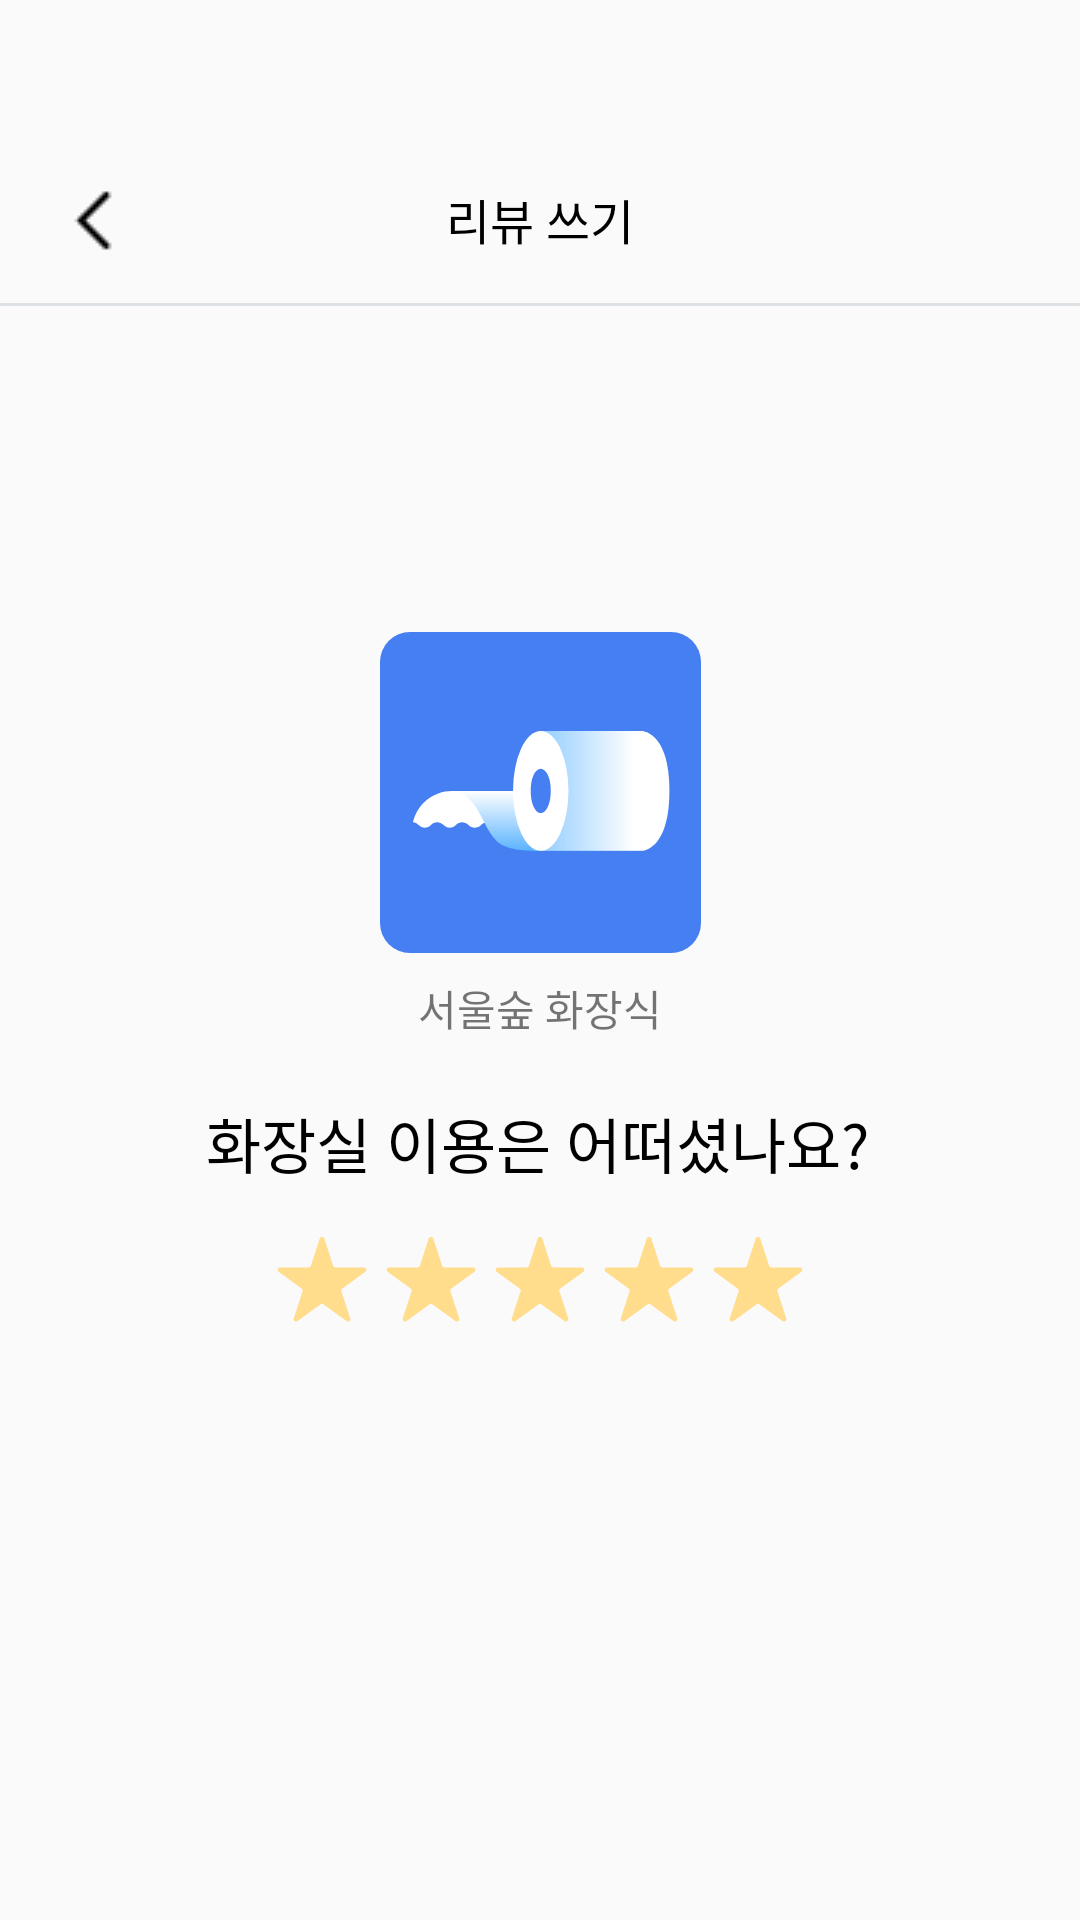

Named icons in this screenshot (1080*1920) and their centers, (x=x, y=y):
back usage: (x=93, y=220)
star score: (x=322, y=1279), (x=431, y=1279), (x=540, y=1279), (x=649, y=1279), (x=758, y=1279)
